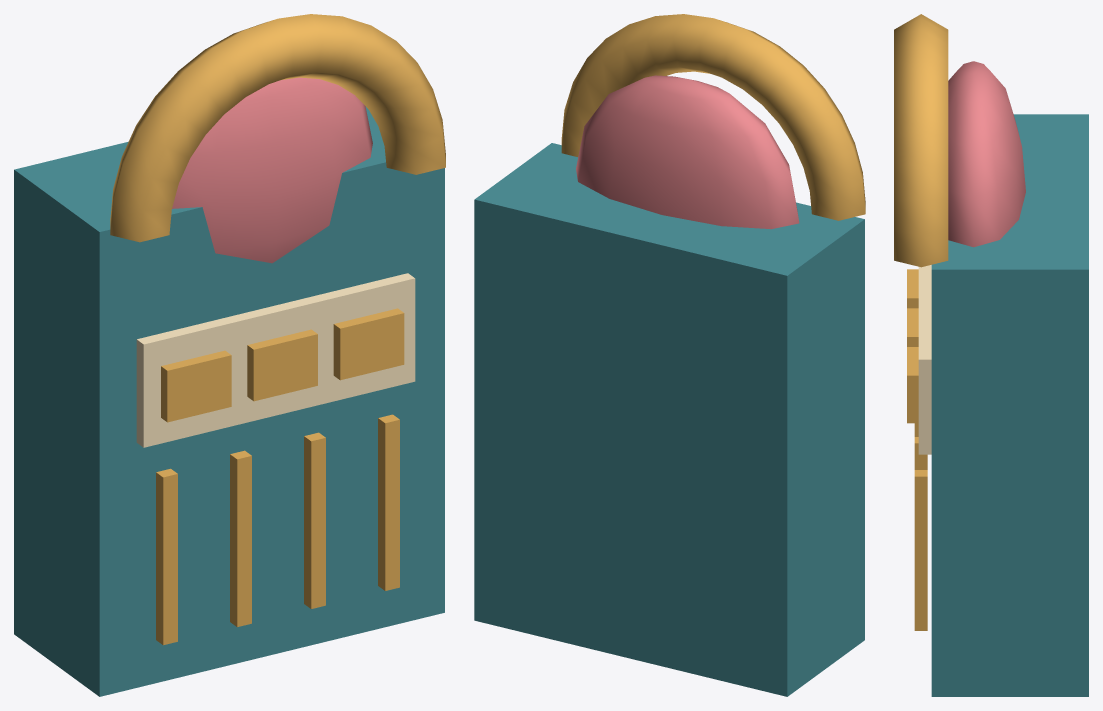
Rendered from prop-bandstand-jukebox.glb.
3 views of the same model, side by side, from view 1: azimuth 30°, elevation 25°; view 2: azimuth 150°, elevation 25°; view 3: azimuth 270°, elevation 25° (orthographic). The views are drawn at different scales.
Parts seen in each view (by area): view 1: jukebox; view 2: jukebox; view 3: jukebox.
Part boxes in pixels (left/top/right/bottom): jukebox: left=14, top=14, right=445, bottom=696; jukebox: left=474, top=14, right=865, bottom=696; jukebox: left=894, top=14, right=1088, bottom=696.
Bounding box in the file's own units: 1.4 × 2.48 × 0.7439.
